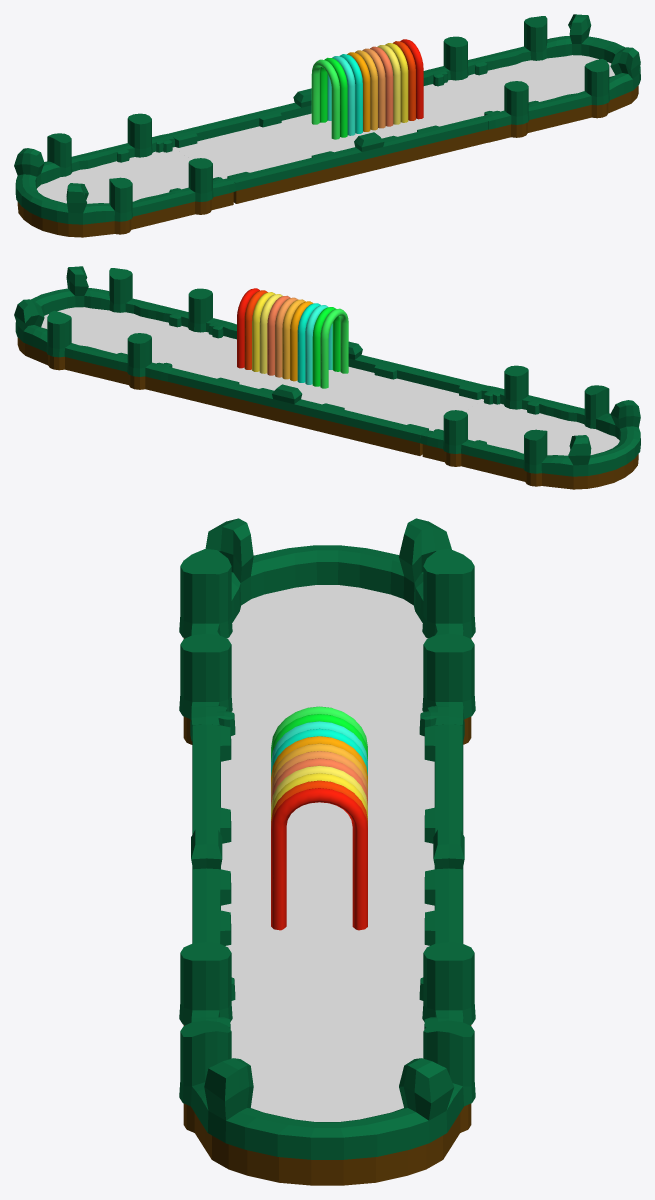
Rendered from Terrains01-1.fbx.
3 renders of one model, top to bottom at view 1: azimuth 30°, elevation 25°; view 2: azimuth 150°, elevation 25°; view 3: azimuth 270°, elevation 25°, orthographic. The views are drawn at different scales.
Visible parts, largest first — view 1: Terrain01.001, Terrain01.002, Torus.003, Water.003, Terrain01.004, Water.002, Water.001, Terrain01.003; view 2: Terrain01.001, Terrain01.002, Torus.003, Water.003, Terrain01.003, Water.002, Water.001, Terrain01.004; view 3: Water.003, Terrain01.002, Terrain01.001, Water.001, Water.002, Torus.003, Terrain01.003, Terrain01.004.
Part boxes in pixels (bbox=[...]): Terrain01.001: bbox=[14, 113, 235, 237]; Terrain01.002: bbox=[423, 14, 640, 142]; Torus.003: bbox=[311, 39, 423, 139]; Water.003: bbox=[174, 85, 473, 178]; Terrain01.004: bbox=[227, 116, 488, 203]; Water.002: bbox=[429, 55, 614, 117]; Water.001: bbox=[37, 147, 214, 203]; Terrain01.003: bbox=[168, 74, 427, 147]; Terrain01.001: bbox=[420, 365, 640, 489]; Terrain01.002: bbox=[14, 266, 234, 394]; Torus.003: bbox=[237, 288, 348, 388]; Water.003: bbox=[182, 337, 482, 431]; Terrain01.003: bbox=[167, 368, 428, 455]; Water.002: bbox=[41, 307, 226, 369]; Water.001: bbox=[441, 399, 619, 455]; Terrain01.004: bbox=[228, 324, 487, 399]; Water.003: bbox=[221, 740, 434, 989]; Terrain01.002: bbox=[179, 942, 475, 1185]; Terrain01.001: bbox=[179, 518, 475, 744]; Water.001: bbox=[227, 585, 427, 739]; Water.002: bbox=[230, 989, 424, 1121]; Torus.003: bbox=[271, 706, 367, 930]; Terrain01.003: bbox=[424, 724, 464, 945]; Terrain01.004: bbox=[191, 724, 231, 945].
Size of the model in its own units: 319 by 45.65 by 67.68.
